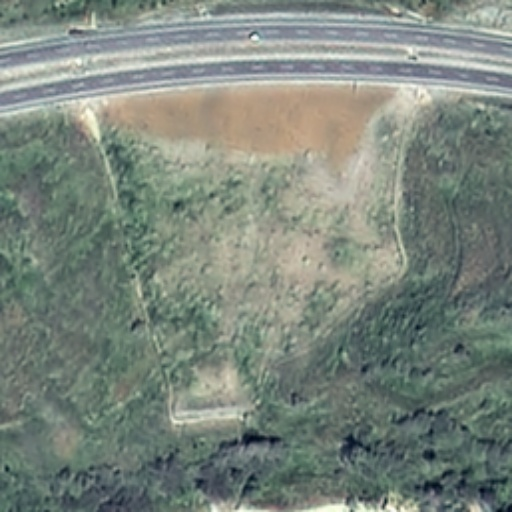landslide: (118, 105, 399, 320)
